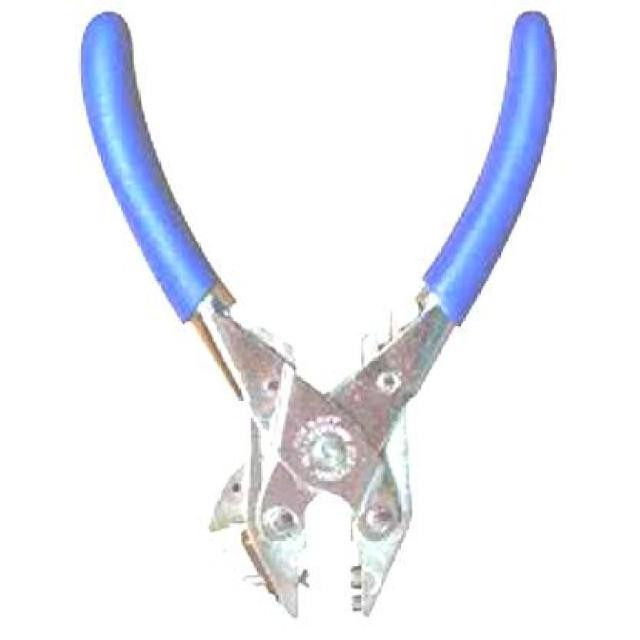pliers: (74, 0, 577, 625)
